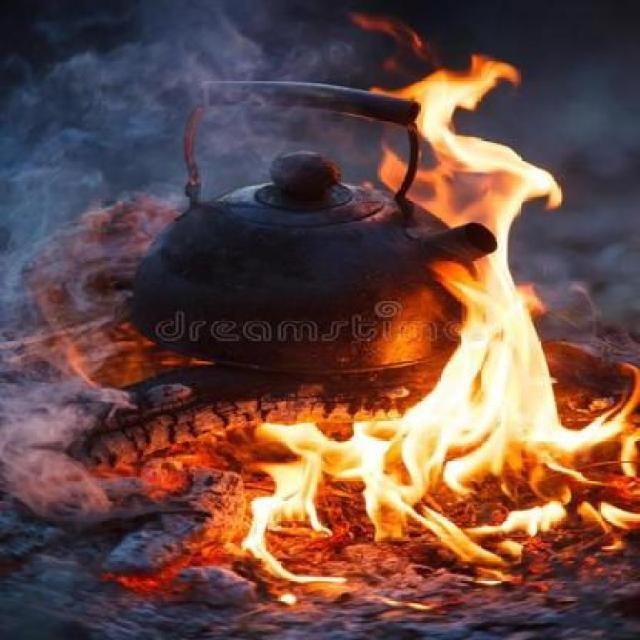Fire: (356, 14, 640, 570), (229, 407, 364, 572)
